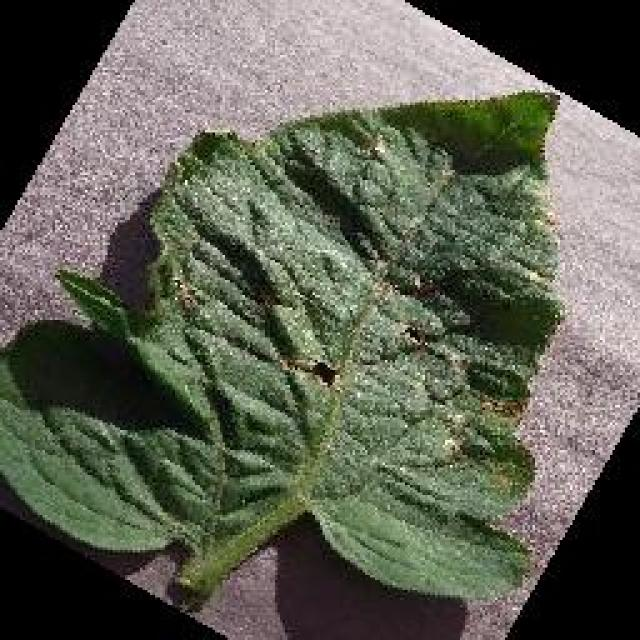Tomato___Target_Spot: (0, 92, 560, 610)
